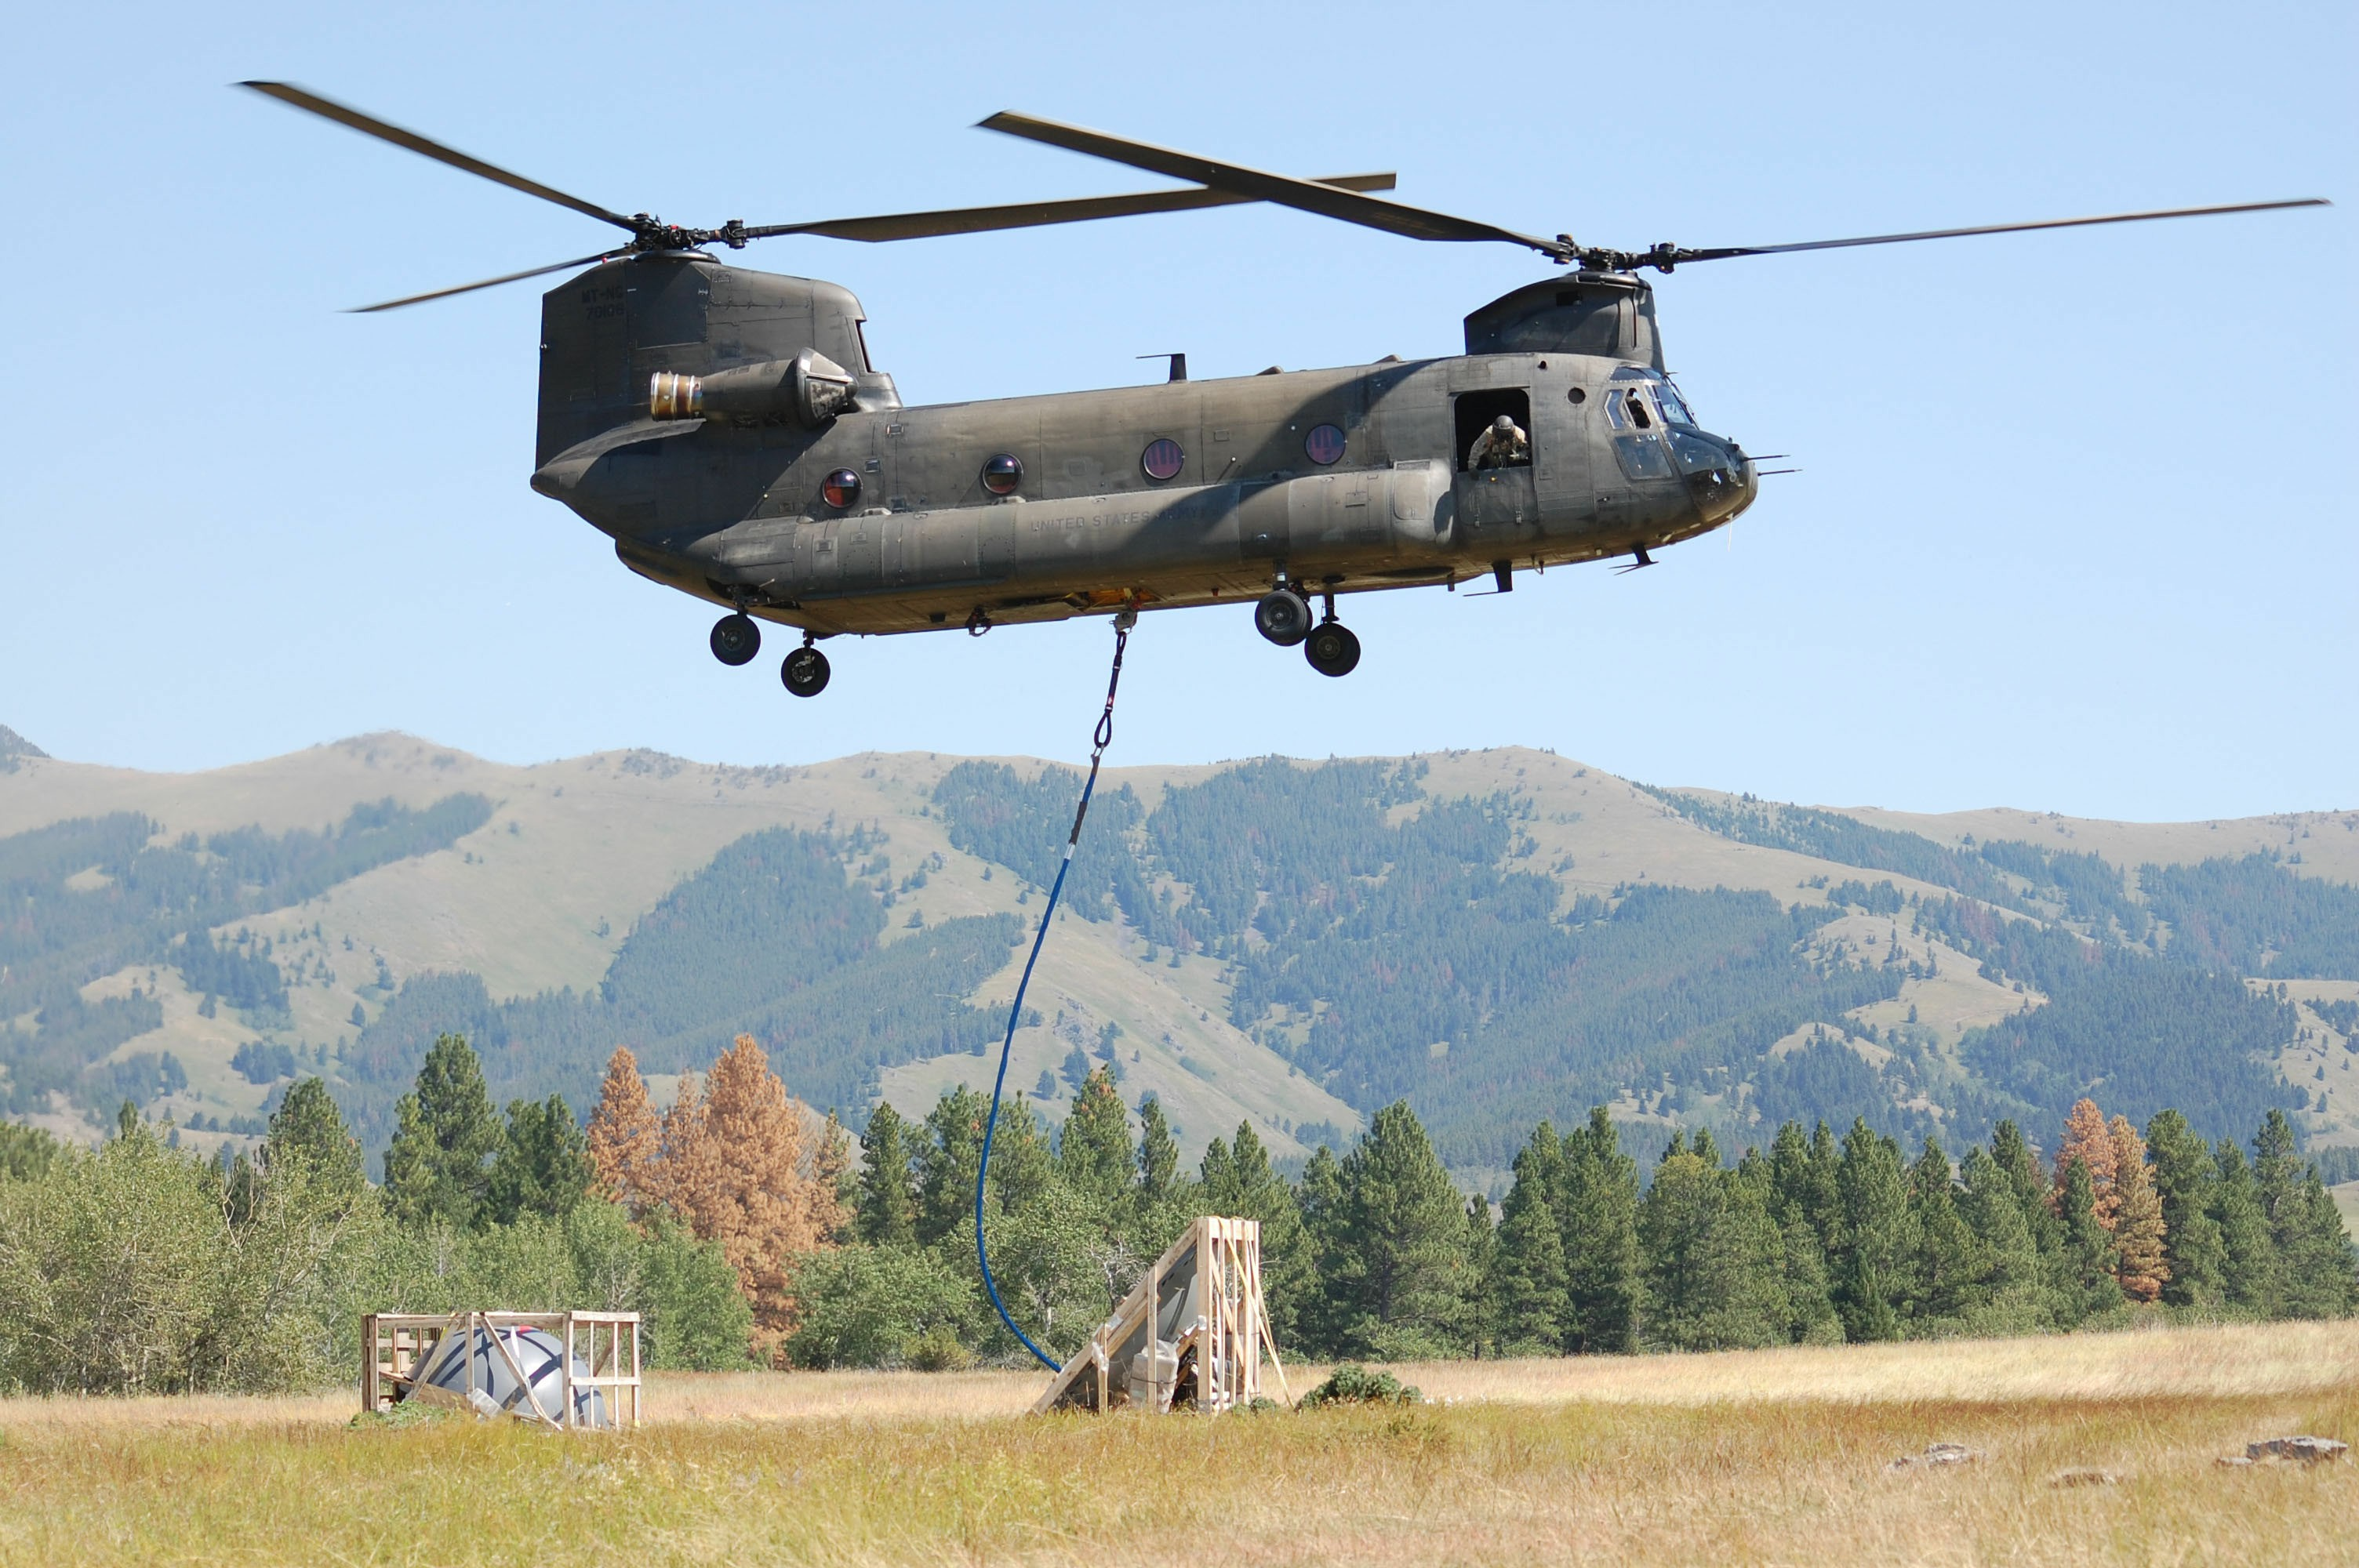chinook: (390, 147, 1813, 690)
